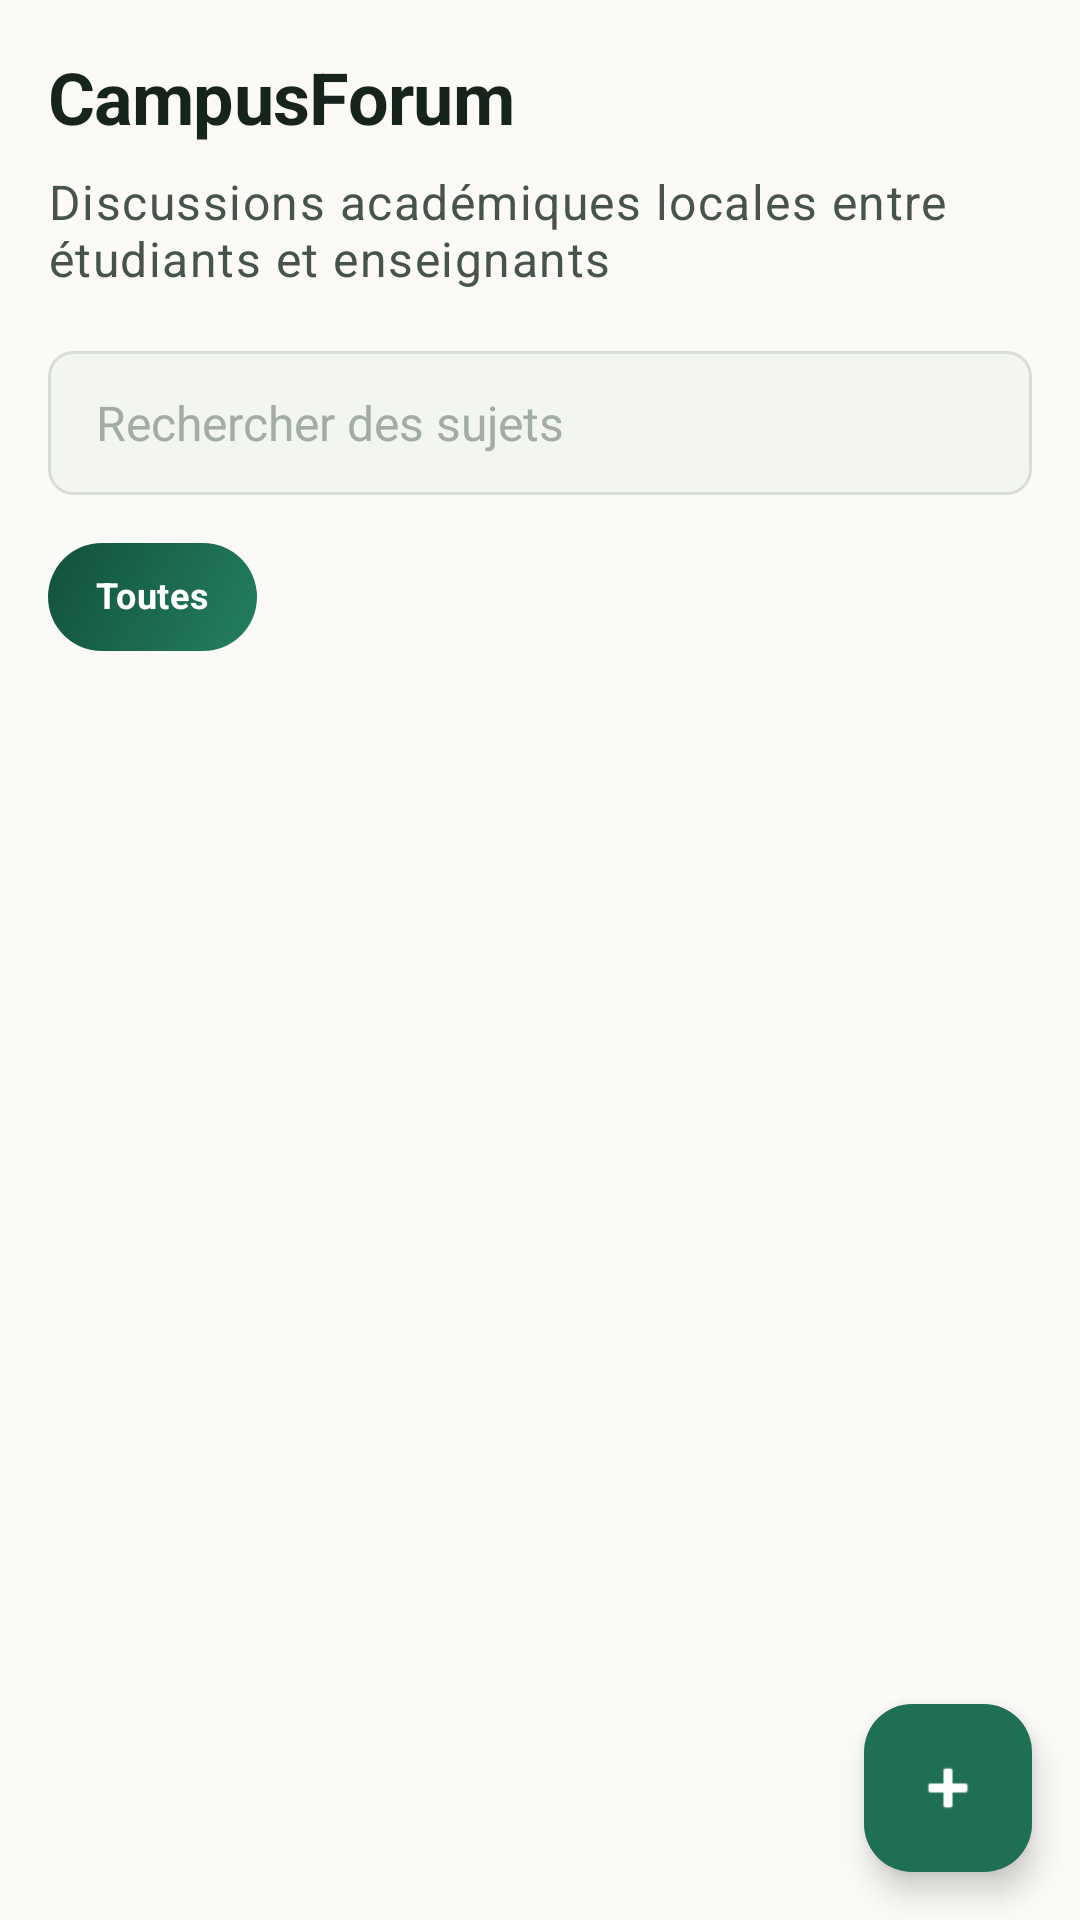

Icons on this 1080 x 1920 Android screen, each with the point to tap as [x,y]:
Créer un sujet: [948,1788]
